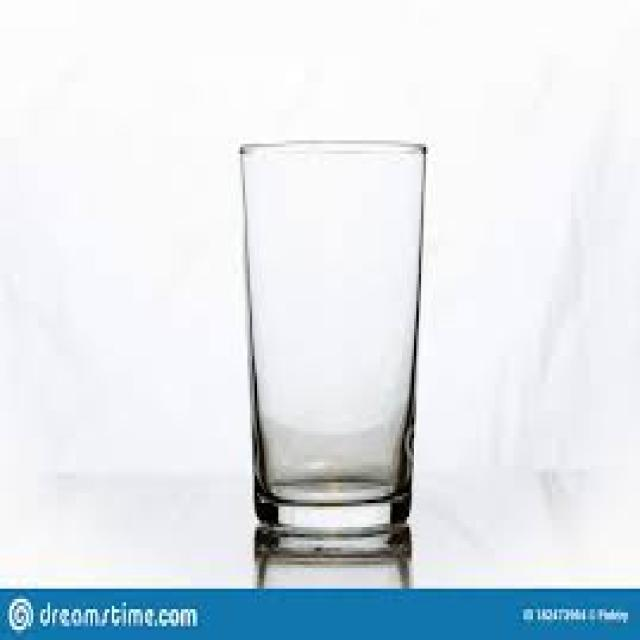glass: (238, 140, 423, 551)
